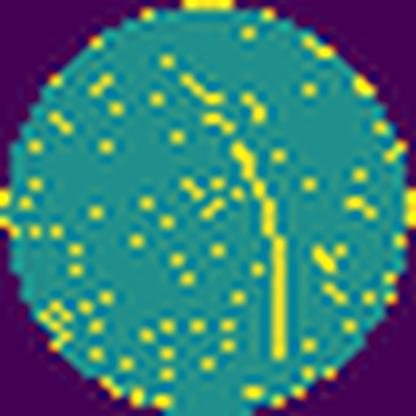Scratch: (230, 139, 290, 366)
